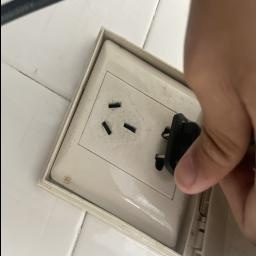outlet: (30, 24, 224, 253)
